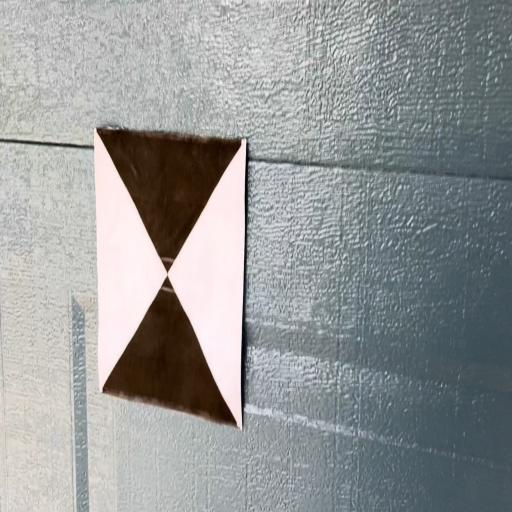target: (95, 126, 246, 430)
